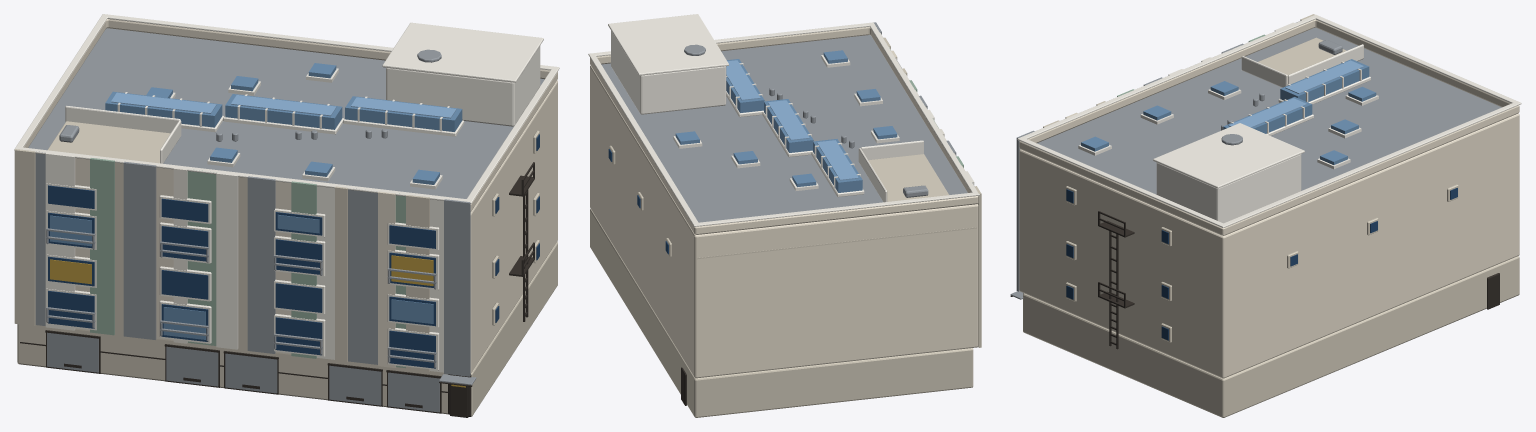
The model's file is 49-zoe.glb.
The picture shows the model from 3 angles, left to right: view 1: azimuth 30°, elevation 25°; view 2: azimuth 150°, elevation 25°; view 3: azimuth 270°, elevation 25°; orthographic projection. The views are drawn at different scales.
Visible parts, largest first — view 1: body, grp_Toy_white, grp_Toy_steel, grp_Toy_stone, grp_Toy_glass, grp_Toy_sand, grp_Toy_verdigris, grp_Toy_glassl, grp_Toy_ink, grp_Toy_glass_Glow, grp_Toy_glassl_Glow, grp_Toy_gold_Glow (+1 smaller); view 2: body, grp_Toy_stone, grp_Toy_white, grp_Toy_sand, grp_Toy_glassl, grp_Toy_glassl_Glow, grp_Toy_steel; view 3: body, grp_Toy_stone, grp_Toy_white, grp_Toy_sand, grp_Toy_glassl, grp_Toy_ink, grp_Toy_glassl_Glow, grp_Toy_steel, grp_Toy_glass.
Boxes of the visible parts, left/top/right/bottom form: body: left=28, top=28, right=557, bottom=373; grp_Toy_white: left=14, top=14, right=559, bottom=372; grp_Toy_steel: left=35, top=49, right=476, bottom=412; grp_Toy_stone: left=14, top=121, right=557, bottom=416; grp_Toy_glass: left=48, top=134, right=539, bottom=368; grp_Toy_sand: left=23, top=19, right=557, bottom=367; grp_Toy_verdigris: left=90, top=158, right=405, bottom=368; grp_Toy_glassl: left=105, top=63, right=462, bottom=184; grp_Toy_ink: left=20, top=162, right=534, bottom=417; grp_Toy_glass_Glow: left=50, top=214, right=433, bottom=339; grp_Toy_glassl_Glow: left=111, top=92, right=456, bottom=118; grp_Toy_gold_Glow: left=50, top=255, right=465, bottom=387; body: left=590, top=35, right=978, bottom=378; grp_Toy_stone: left=590, top=37, right=981, bottom=417; grp_Toy_white: left=588, top=14, right=979, bottom=226; grp_Toy_sand: left=590, top=26, right=978, bottom=234; grp_Toy_glassl: left=675, top=50, right=897, bottom=192; grp_Toy_glassl_Glow: left=726, top=60, right=858, bottom=180; grp_Toy_steel: left=684, top=22, right=973, bottom=197; body: left=1019, top=27, right=1519, bottom=378; grp_Toy_stone: left=1023, top=14, right=1519, bottom=417; grp_Toy_white: left=1017, top=14, right=1521, bottom=227; grp_Toy_sand: left=1019, top=19, right=1519, bottom=235; grp_Toy_glassl: left=1081, top=59, right=1376, bottom=164; grp_Toy_ink: left=1010, top=211, right=1499, bottom=349; grp_Toy_glassl_Glow: left=1228, top=60, right=1363, bottom=127; grp_Toy_steel: left=1010, top=21, right=1342, bottom=299; grp_Toy_glass: left=1066, top=188, right=1457, bottom=340.
Bounding box in the file's own units: 34.11 × 17 × 34.61.
